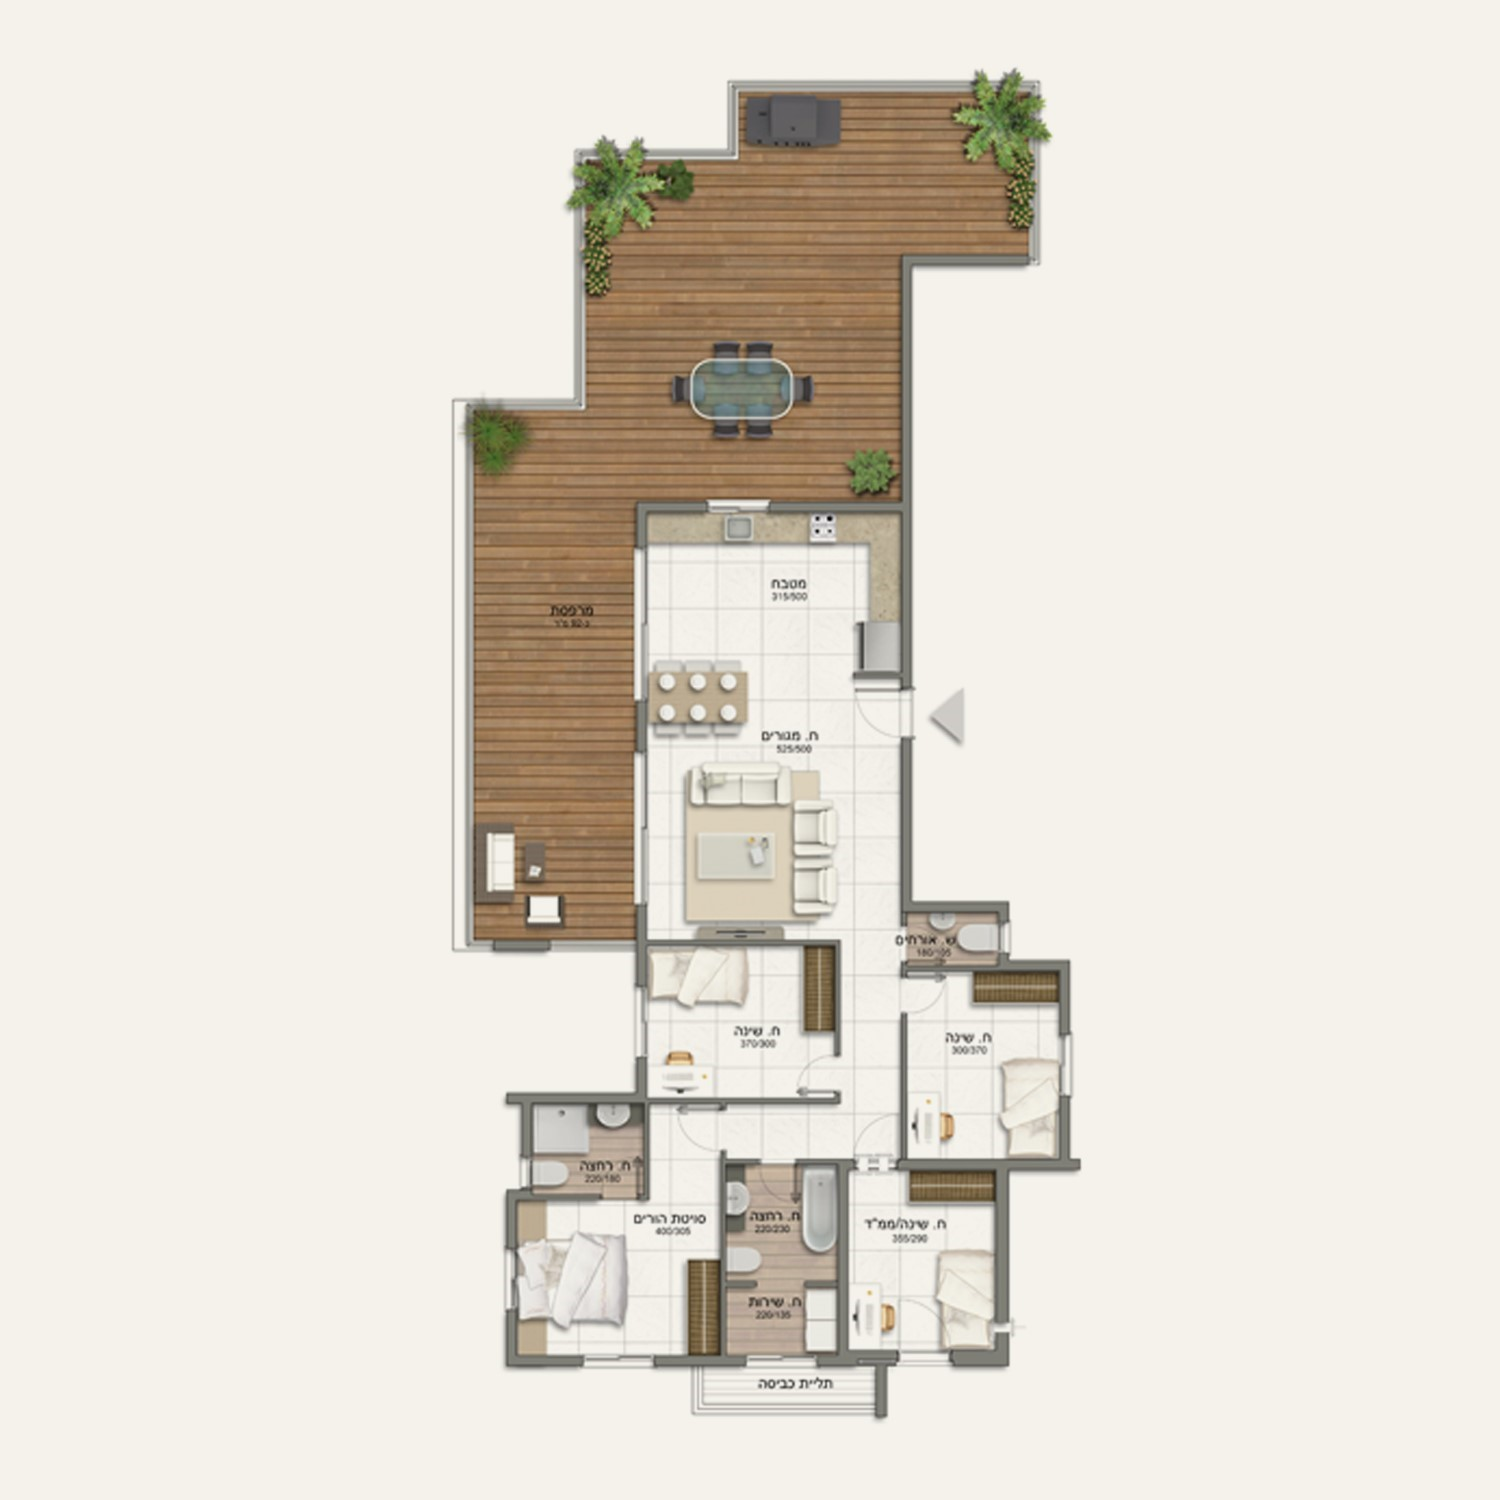door: (850, 680, 898, 750), (791, 1049, 830, 1096)
wall: (837, 1162, 849, 1368), (521, 1093, 532, 1152)
window: (635, 753, 650, 907), (635, 551, 650, 695), (582, 1354, 654, 1376), (635, 985, 648, 1056)
